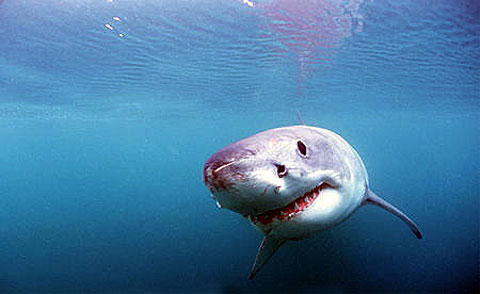Carcharodon_carcharias: (184, 110, 433, 277)
